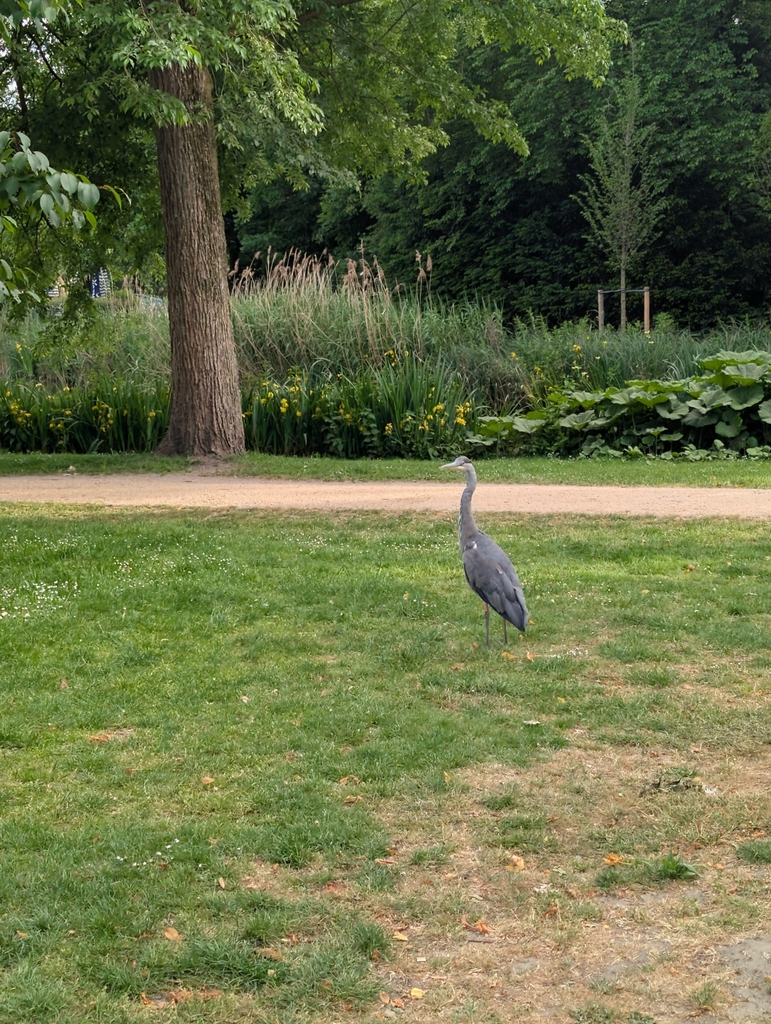heron: (431, 453, 538, 653)
